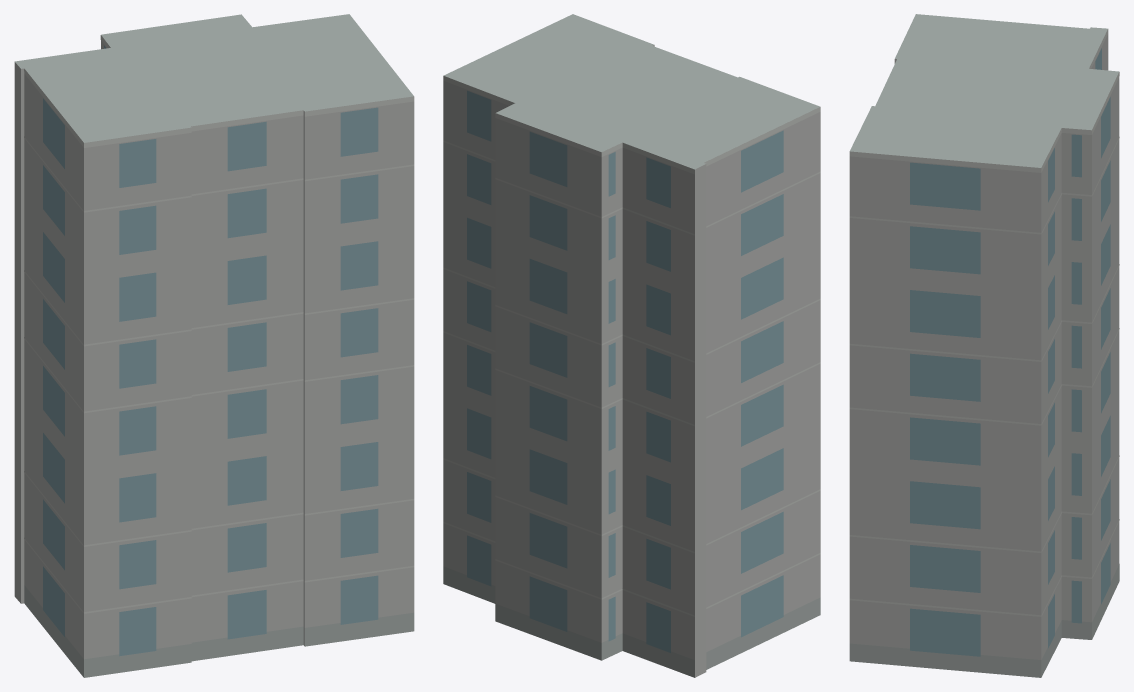
The model's file is survey-upis-32905282.glb.
The picture shows the model from 3 angles, left to right: view 1: azimuth 30°, elevation 25°; view 2: azimuth 150°, elevation 25°; view 3: azimuth 270°, elevation 25°; orthographic projection. The views are drawn at different scales.
Visible parts, largest first — view 1: survey-upis-32905282.tmp; view 2: survey-upis-32905282.tmp; view 3: survey-upis-32905282.tmp.
Part boxes in pixels (x1,y1,x2,y2): survey-upis-32905282.tmp: (14, 14, 414, 677); survey-upis-32905282.tmp: (443, 14, 820, 677); survey-upis-32905282.tmp: (849, 14, 1119, 677).
Size of the model in its own units: 16.35 by 25.2 by 12.11.
